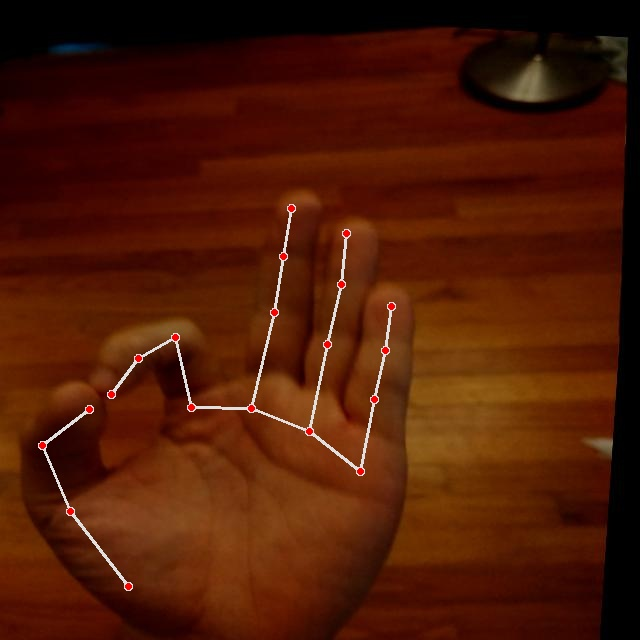F: (0, 157, 454, 639)
